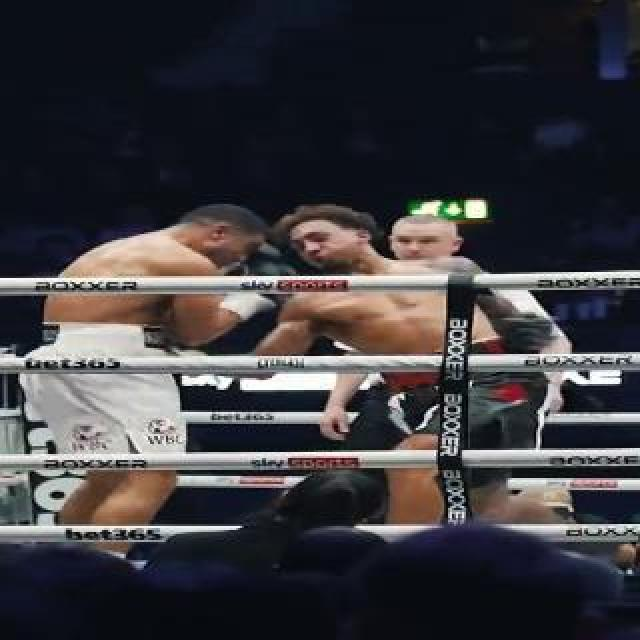fight: (30, 169, 558, 539)
